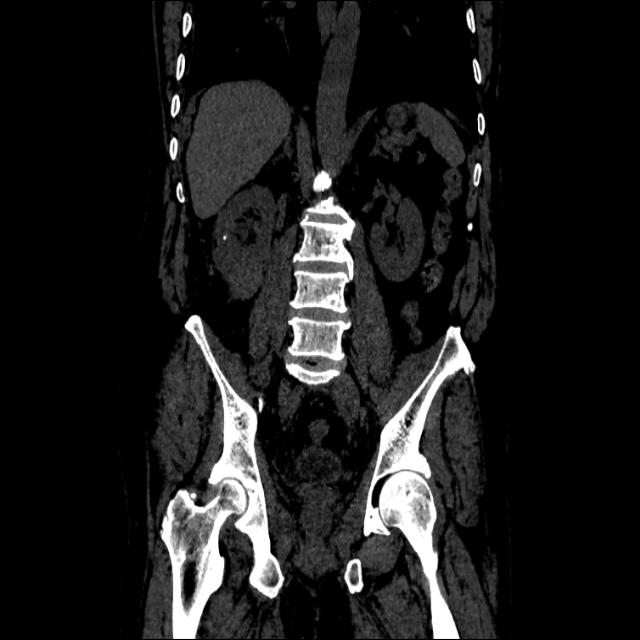kidneystone: (214, 233, 227, 242)
